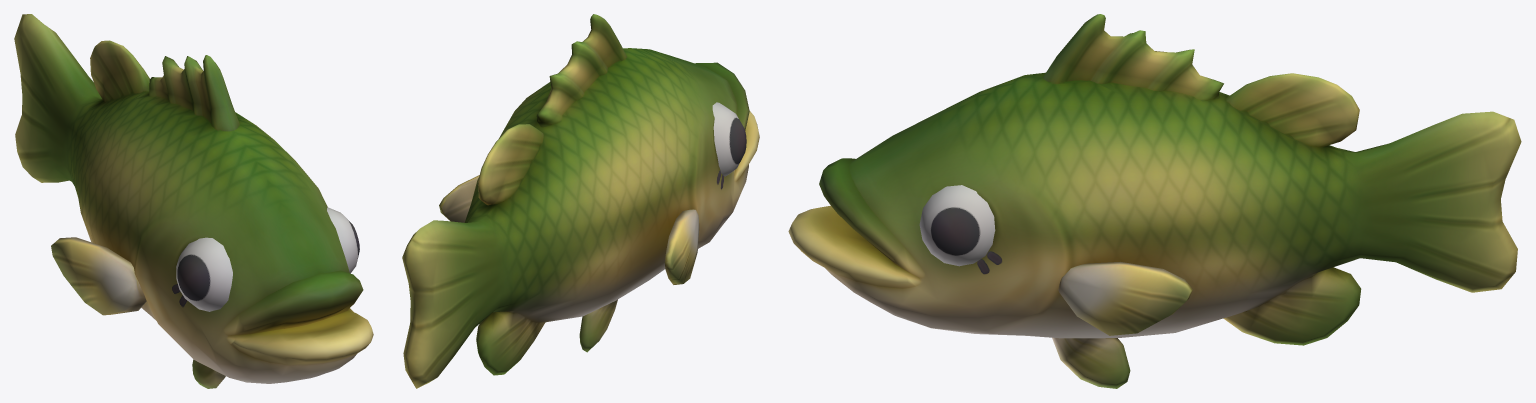
Rendered from Fish_LargemouthBass.fbx.
3 renders of one model, left to right at view 1: azimuth 30°, elevation 25°; view 2: azimuth 150°, elevation 25°; view 3: azimuth 270°, elevation 25°, orthographic. The views are drawn at different scales.
Parts seen in each view (by area): view 1: Fish_LargemouthBass; view 2: Fish_LargemouthBass; view 3: Fish_LargemouthBass.
Part boxes in pixels (x1,y1,x2,y2): Fish_LargemouthBass: (14, 14, 373, 388); Fish_LargemouthBass: (402, 14, 759, 388); Fish_LargemouthBass: (788, 14, 1521, 388).
Bounding box in the file's own units: 28.04 × 38.51 × 68.23.
Materials: 1 (1 with a texture image).
